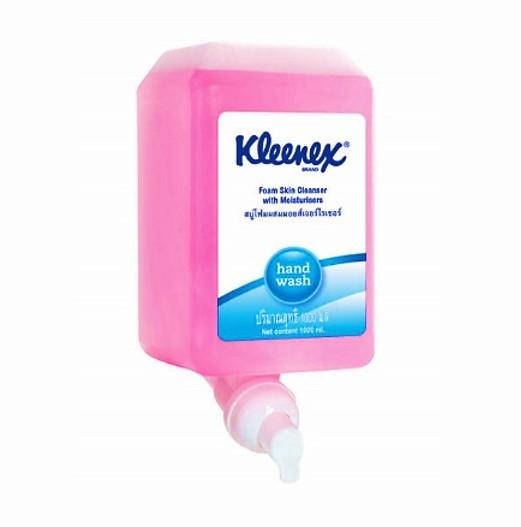Cleaning_solution: (130, 37, 380, 497)
